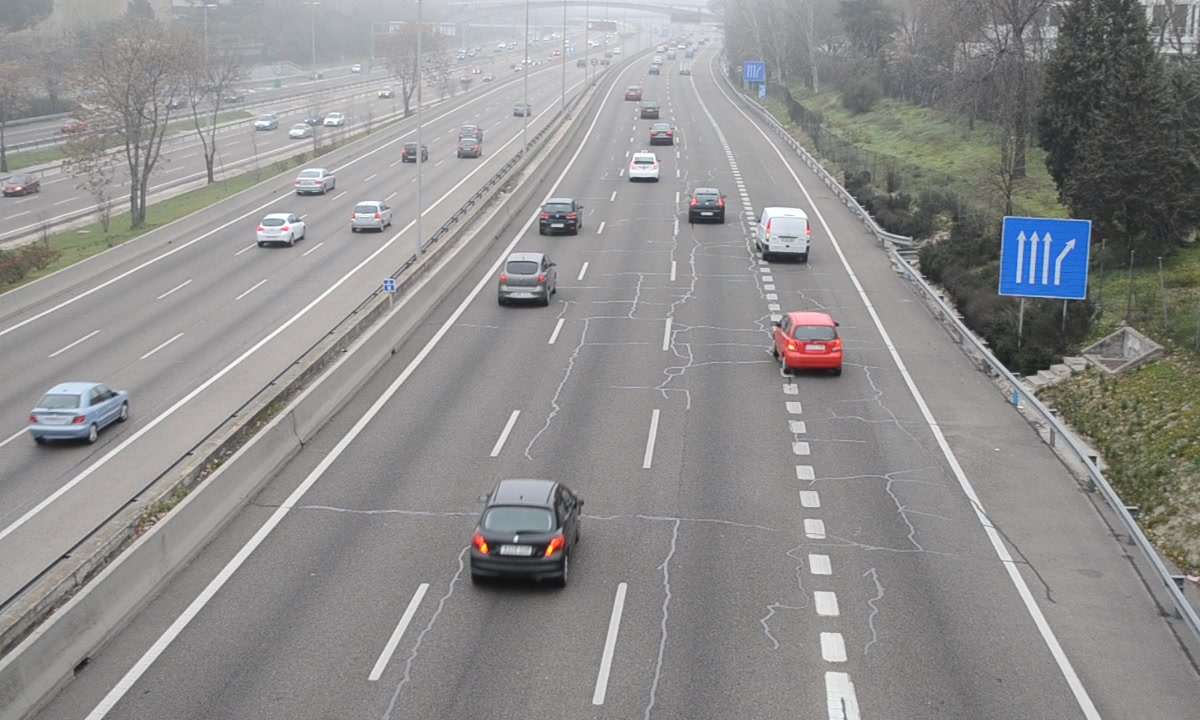car: (470, 481, 582, 583), (772, 311, 844, 370), (498, 252, 554, 302), (538, 199, 584, 237), (688, 188, 727, 224), (627, 148, 662, 181), (650, 120, 675, 143)
van: (756, 206, 812, 262)
